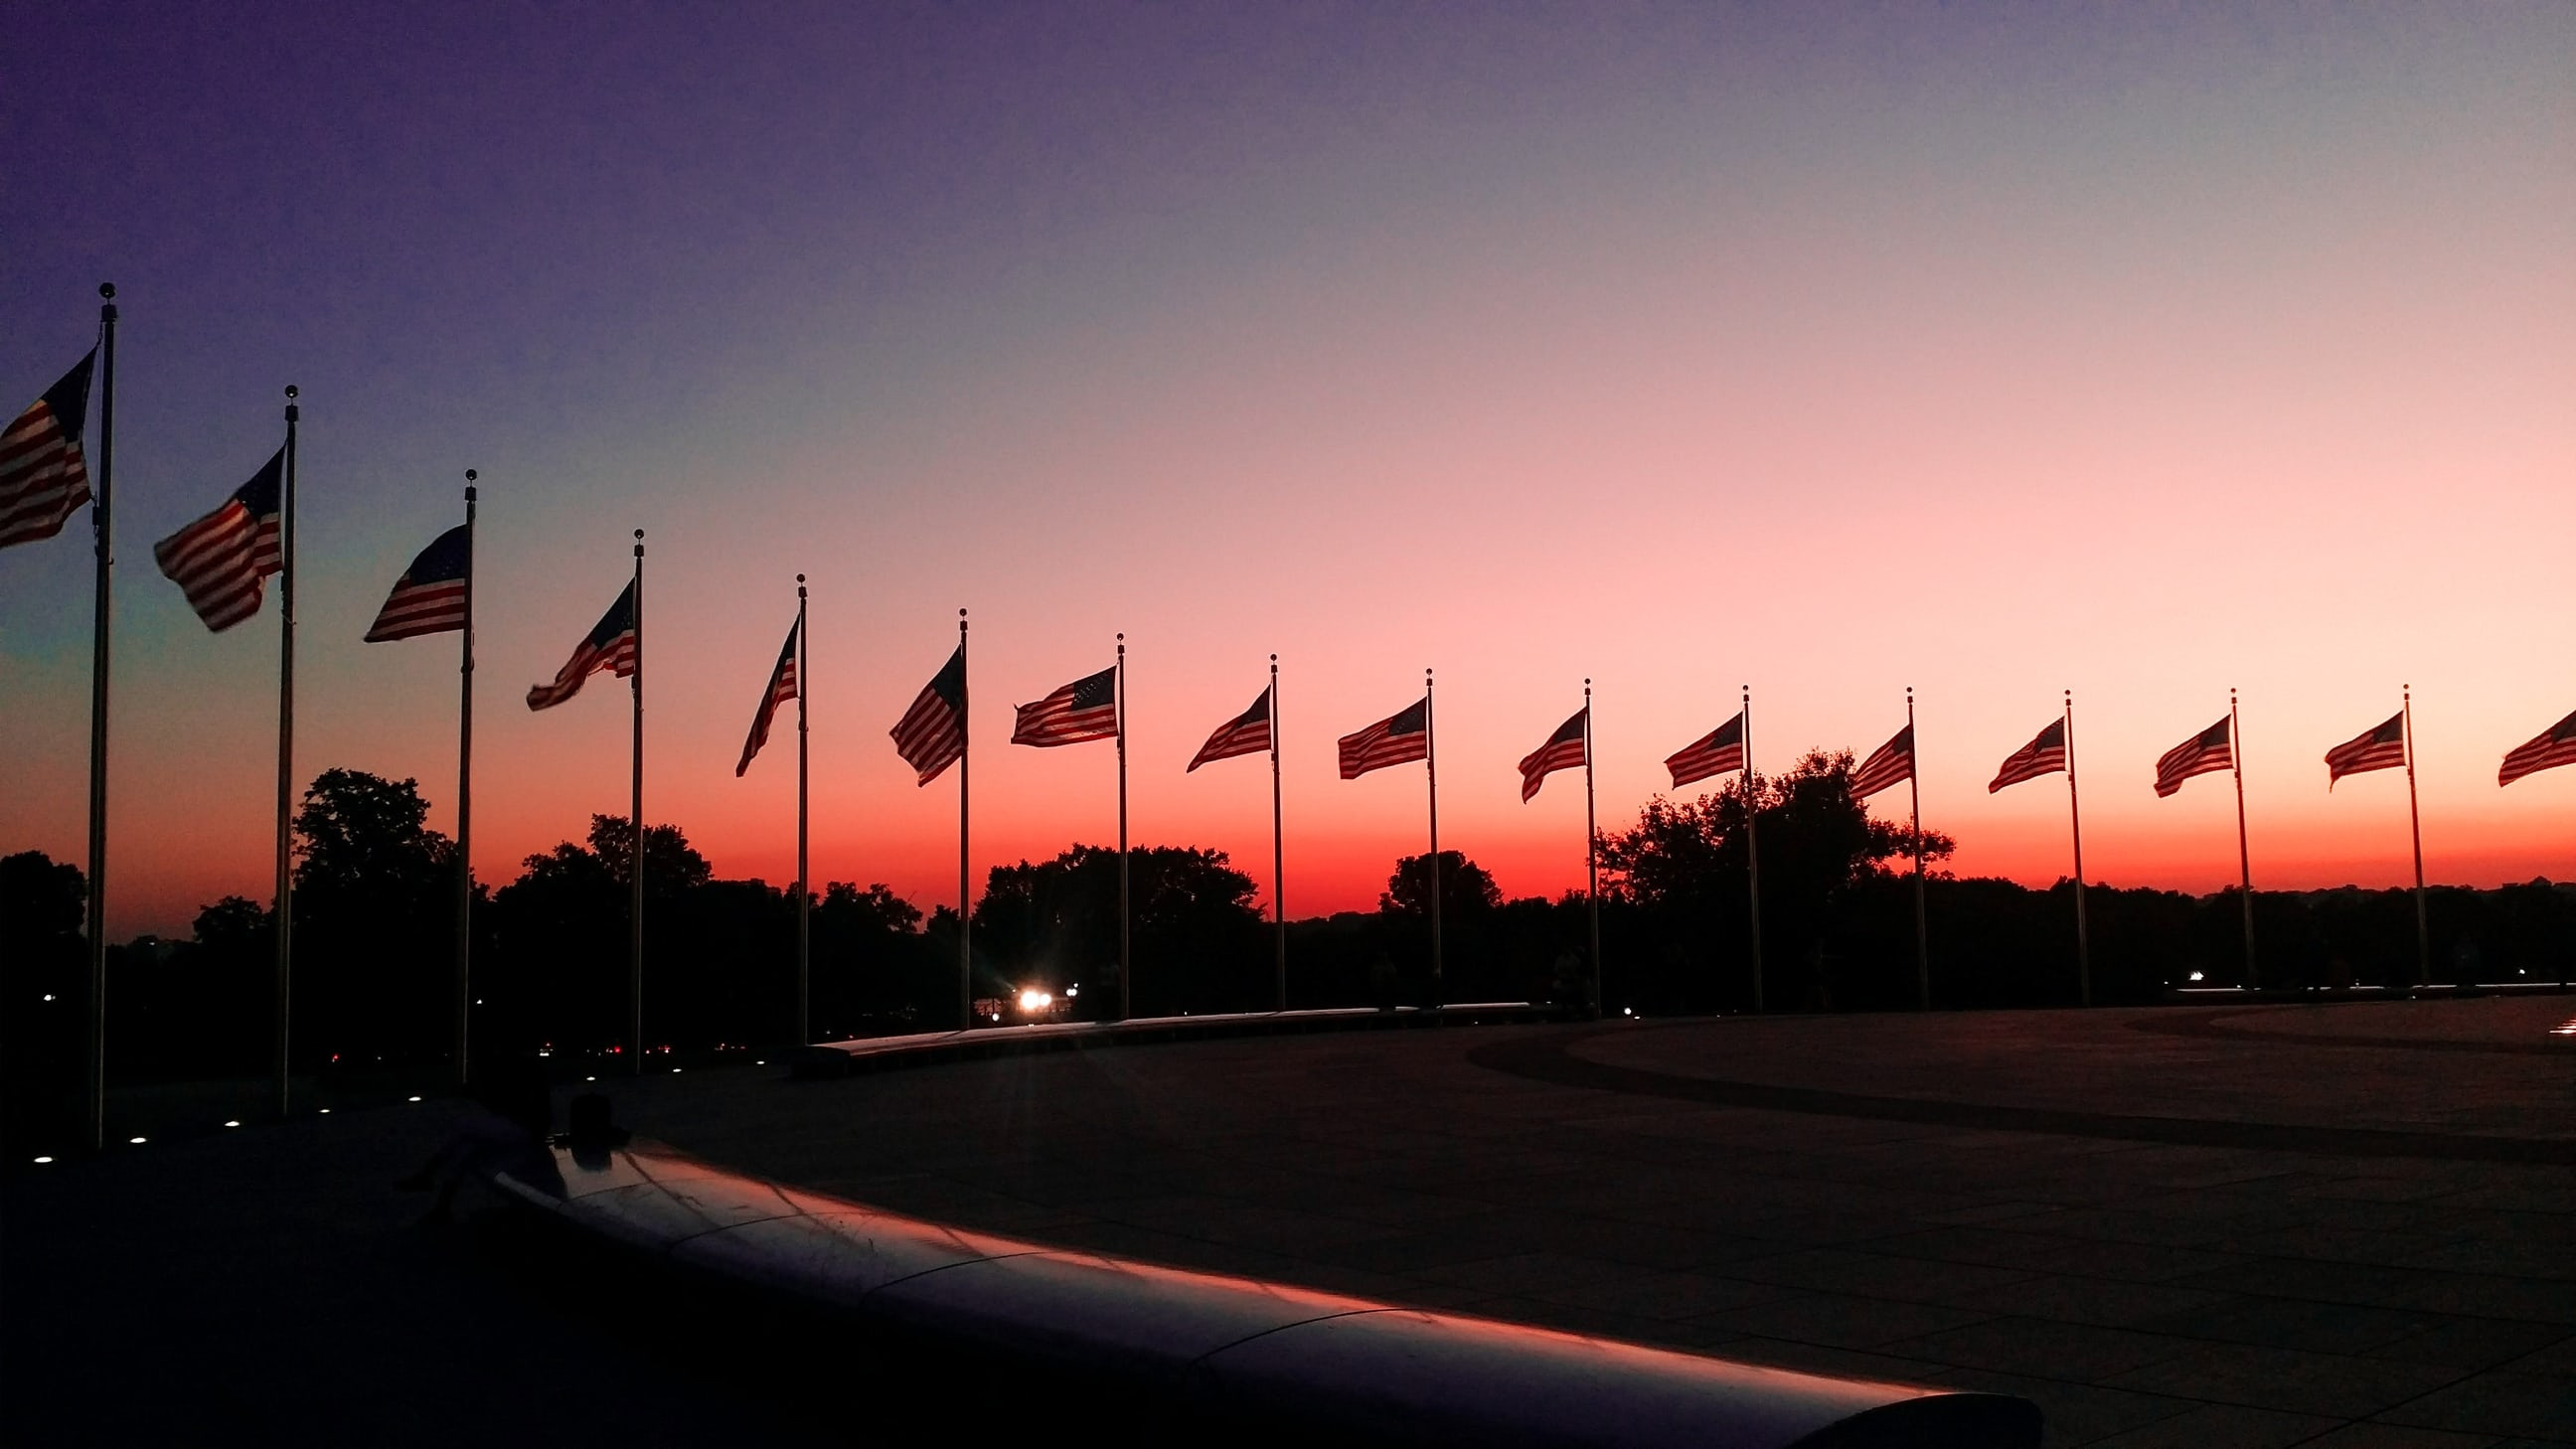Flag: (154, 448, 294, 637), (2, 341, 101, 550), (529, 577, 633, 713), (364, 525, 465, 646), (736, 621, 810, 780), (890, 640, 970, 786), (1012, 667, 1125, 750), (1338, 699, 1438, 778), (1189, 688, 1277, 771), (1661, 709, 1753, 789), (2496, 711, 2576, 791), (2328, 709, 2408, 786), (1520, 708, 1587, 796), (2153, 720, 2236, 791), (1845, 725, 1920, 798), (1992, 720, 2070, 787)
